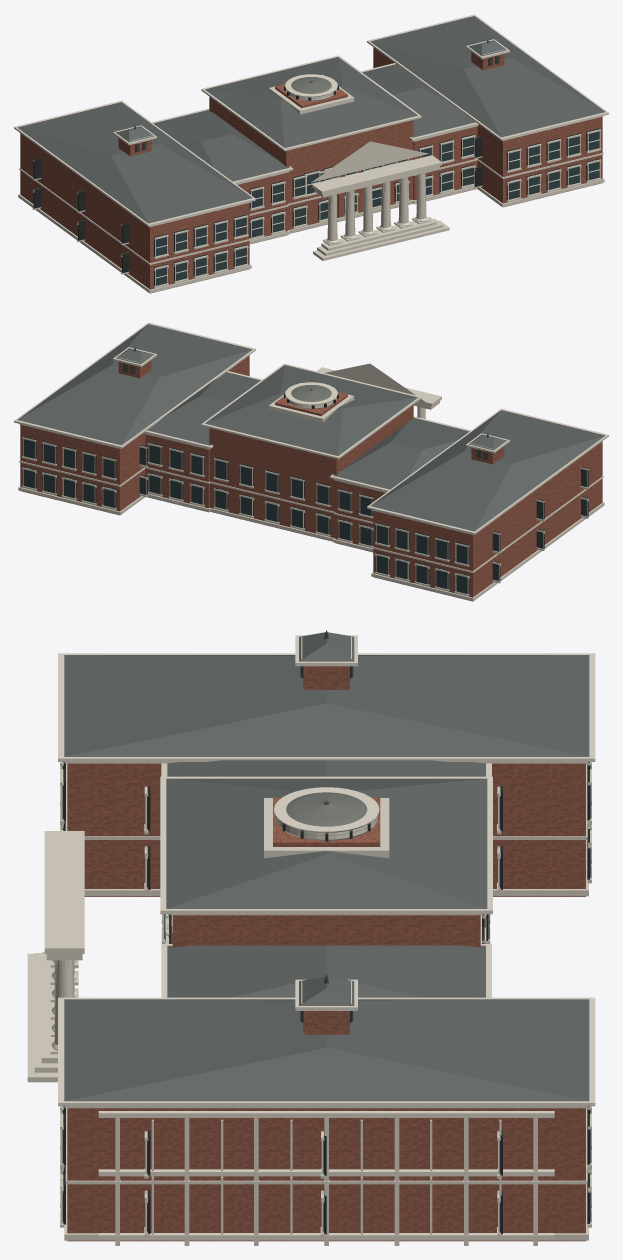
Rendered from barnard.glb.
3 renders of one model, top to bottom at view 1: azimuth 30°, elevation 25°; view 2: azimuth 150°, elevation 25°; view 3: azimuth 270°, elevation 25°, orthographic. The views are drawn at different scales.
Visible parts, largest first — view 1: Central cubic observatory pavilion, East wing (Chancellor residence), Central dome and timber observatory drum; view 2: Central cubic observatory pavilion, East wing (Chancellor residence), Central dome and timber observatory drum; view 3: Central cubic observatory pavilion, Central dome and timber observatory drum, East wing (Chancellor residence).
Boxes of the visible parts, <box> form: Central cubic observatory pavilion: <box>14,14,608,293</box>; East wing (Chancellor residence): <box>155,131,600,286</box>; Central dome and timber observatory drum: <box>33,39,599,286</box>; Central cubic observatory pavilion: <box>14,322,608,601</box>; East wing (Chancellor residence): <box>23,439,587,594</box>; Central dome and timber observatory drum: <box>23,347,588,594</box>; Central cubic observatory pavilion: <box>27,632,595,1245</box>; Central dome and timber observatory drum: <box>63,630,589,1234</box>; East wing (Chancellor residence): <box>60,765,591,1233</box>.
Bounding box in the file's own units: 56.82 × 12.75 × 29.9.
9 materials, 1 textured.
